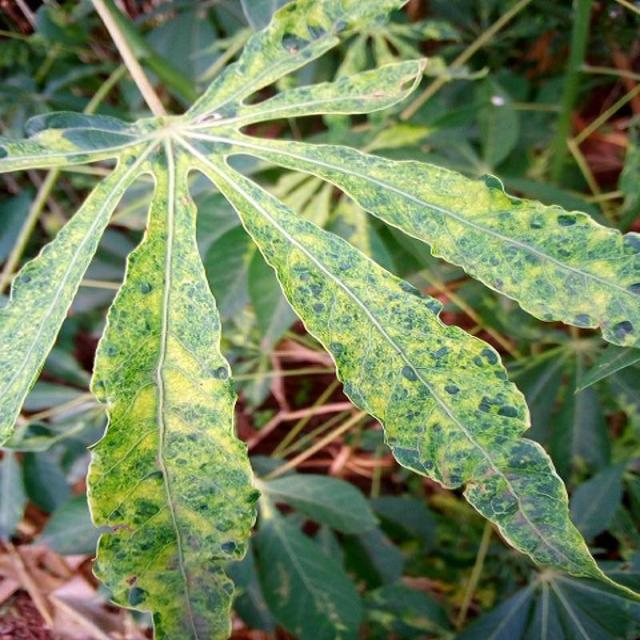cassava leaf: (0, 0, 638, 638), (84, 141, 261, 638)
